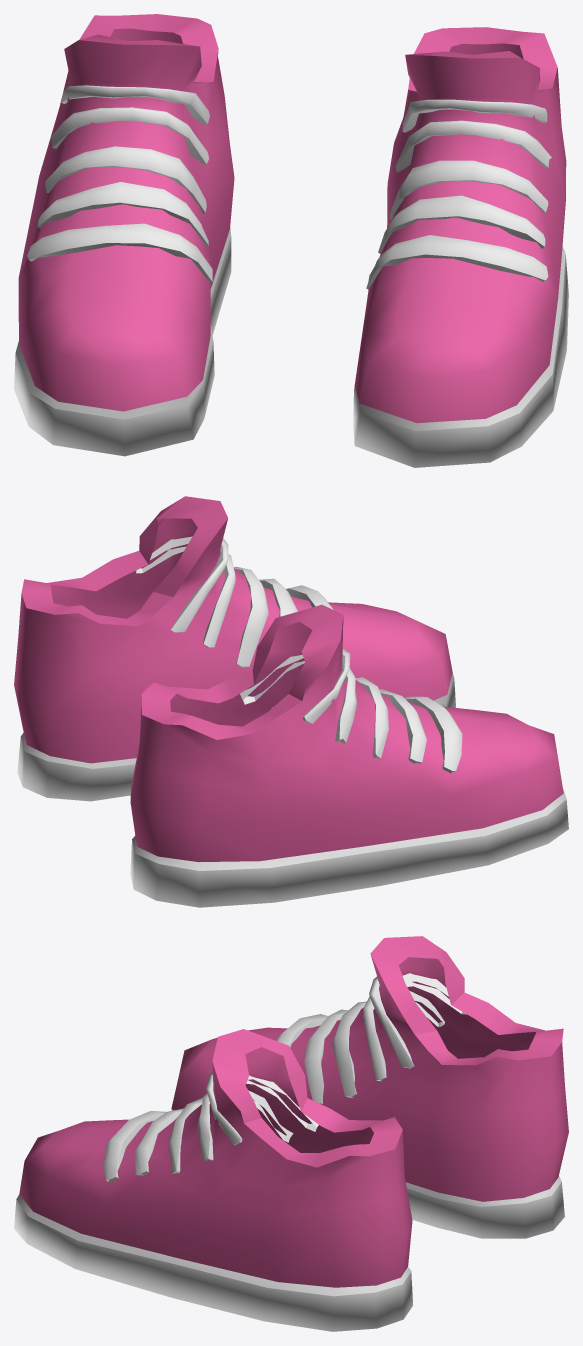
The model's file is Pink_Shoes.fbx.
3 views of the same model, one above another, from view 1: azimuth 30°, elevation 25°; view 2: azimuth 150°, elevation 25°; view 3: azimuth 270°, elevation 25° (orthographic). The views are drawn at different scales.
Visible parts, largest first — view 1: Pink_Shoes; view 2: Pink_Shoes; view 3: Pink_Shoes.
Part boxes in pixels (left/top/right/bottom): Pink_Shoes: left=14, top=14, right=568, bottom=467; Pink_Shoes: left=14, top=496, right=568, bottom=907; Pink_Shoes: left=14, top=936, right=568, bottom=1331.
Bounding box in the file's own units: 169 × 81.04 × 173.
